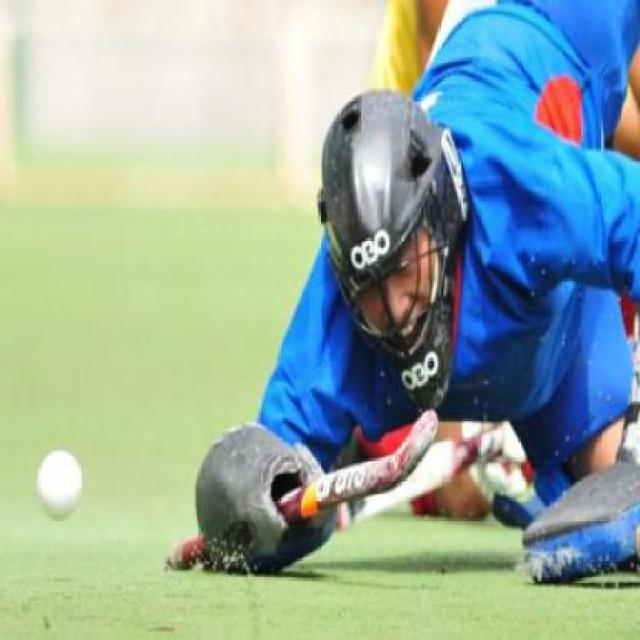fall: (250, 4, 638, 571)
